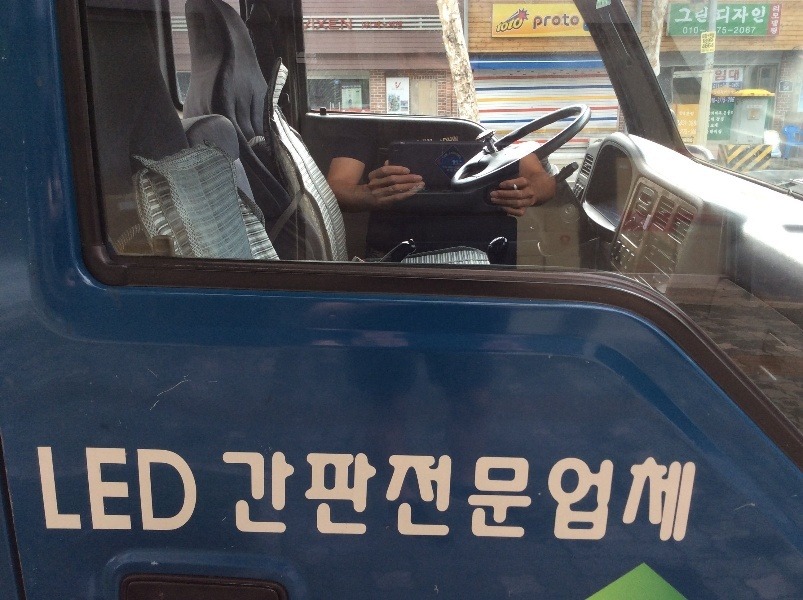text: (225, 451, 240, 544), (241, 451, 256, 544), (257, 451, 272, 544), (273, 451, 288, 544), (289, 451, 304, 544), (305, 451, 320, 544), (321, 451, 336, 544), (337, 451, 352, 544), (353, 451, 368, 544), (369, 451, 384, 544), (385, 451, 400, 544), (401, 451, 416, 544), (417, 451, 432, 544), (433, 451, 448, 544), (449, 451, 464, 544), (465, 451, 480, 544), (481, 451, 496, 544), (497, 451, 512, 544), (513, 451, 528, 544), (33, 446, 48, 535), (49, 446, 64, 535), (65, 446, 80, 535), (81, 446, 96, 535), (97, 446, 112, 535), (113, 446, 128, 535), (129, 446, 144, 535), (145, 446, 160, 535), (161, 446, 176, 535), (177, 446, 192, 535), (561, 456, 576, 545), (577, 456, 592, 545), (593, 456, 608, 545), (609, 456, 624, 545), (625, 456, 640, 545), (641, 456, 656, 545), (657, 456, 672, 545), (673, 456, 688, 545), (193, 446, 207, 535), (546, 456, 560, 545), (689, 456, 701, 545), (220, 451, 224, 544), (529, 451, 533, 544), (773, 5, 784, 35), (721, 6, 736, 24), (737, 6, 752, 24), (497, 15, 512, 33), (545, 13, 560, 30), (561, 13, 576, 30), (753, 6, 766, 24), (513, 15, 525, 33), (694, 4, 704, 23), (533, 13, 544, 30), (321, 18, 336, 30), (337, 18, 352, 30), (721, 69, 736, 81), (679, 8, 688, 23), (449, 150, 462, 160), (721, 27, 736, 35), (737, 27, 752, 35), (689, 27, 704, 35), (385, 21, 400, 29), (721, 83, 736, 90), (312, 18, 320, 30), (721, 97, 734, 104), (706, 27, 720, 33), (374, 21, 384, 29), (305, 18, 311, 31), (597, 1, 608, 8), (677, 120, 688, 127), (705, 4, 709, 23), (449, 135, 459, 142), (710, 97, 720, 104), (451, 160, 464, 165), (721, 90, 734, 95), (723, 111, 736, 116), (707, 130, 720, 135), (439, 135, 448, 142), (689, 120, 698, 127), (689, 8, 693, 23), (715, 69, 720, 81), (710, 128, 720, 134), (353, 109, 368, 113), (441, 153, 448, 161), (709, 33, 720, 38), (709, 117, 720, 122), (717, 6, 720, 24), (705, 38, 714, 44), (705, 43, 714, 49), (679, 129, 688, 135), (710, 111, 720, 116), (713, 83, 720, 90), (362, 22, 368, 30), (708, 124, 720, 128), (680, 111, 688, 117), (689, 129, 697, 135), (711, 123, 720, 128), (311, 95, 320, 100), (454, 166, 464, 170), (683, 27, 688, 35), (342, 85, 352, 89), (705, 49, 714, 53), (343, 109, 352, 113), (577, 13, 579, 30), (353, 85, 361, 89), (422, 139, 432, 142), (714, 90, 720, 95), (689, 111, 694, 117), (449, 165, 456, 169), (391, 88, 400, 91), (705, 34, 710, 39), (683, 138, 688, 143), (442, 165, 448, 169), (449, 169, 457, 172), (717, 27, 720, 35), (753, 27, 756, 35), (369, 22, 372, 30), (737, 69, 739, 81), (388, 113, 400, 115), (737, 83, 740, 90), (716, 117, 720, 122), (689, 138, 693, 143), (705, 27, 707, 35), (785, 82, 789, 86), (785, 87, 789, 91), (753, 106, 761, 108), (721, 117, 724, 122), (747, 136, 752, 139), (303, 18, 304, 31), (702, 38, 704, 44), (701, 49, 704, 53), (401, 88, 405, 91), (401, 113, 407, 115), (702, 34, 704, 39), (321, 95, 323, 100), (401, 21, 402, 29), (748, 106, 752, 108), (609, 1, 610, 8), (446, 169, 448, 172), (703, 43, 704, 49), (721, 128, 722, 134), (337, 81, 339, 84), (753, 136, 755, 139), (721, 111, 722, 116), (783, 87, 784, 91), (369, 109, 370, 113)
